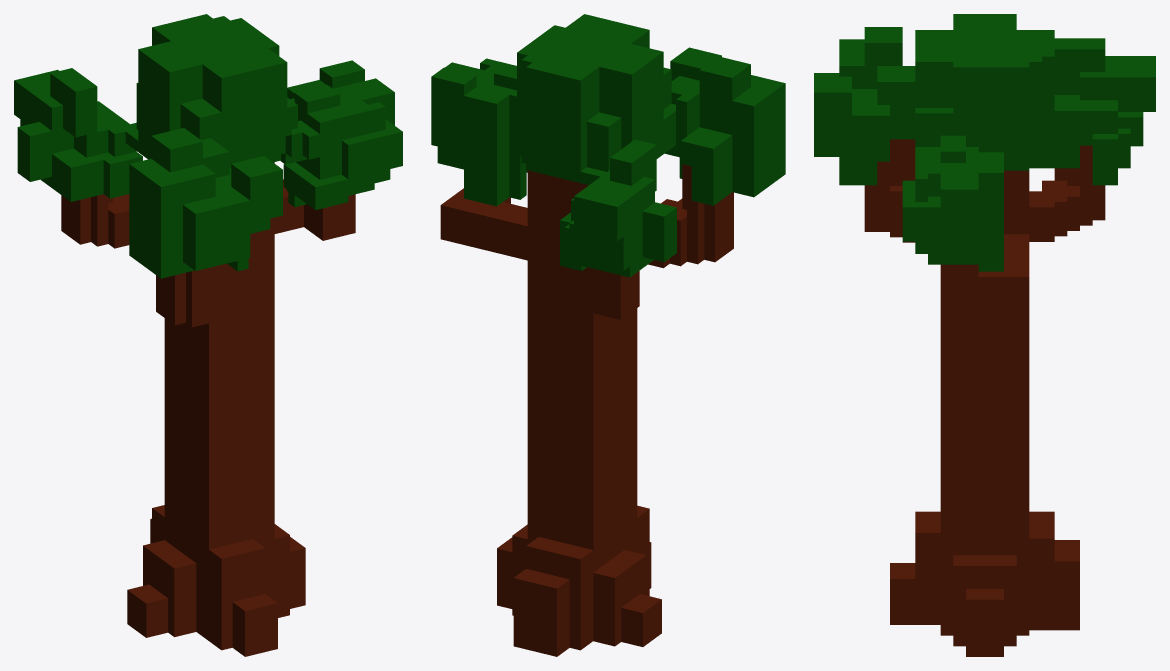
File: Arvore 1.obj
3 renders of one model, left to right at view 1: azimuth 30°, elevation 25°; view 2: azimuth 150°, elevation 25°; view 3: azimuth 270°, elevation 25°, orthographic.
Size of the model in its own units: 2.7 by 5 by 2.7.
1 material, 1 textured.
